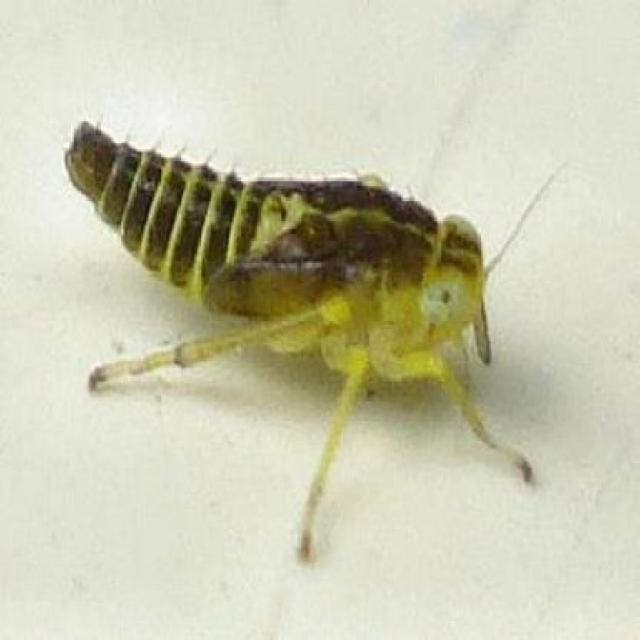green-leafhopper: (72, 109, 494, 445)
